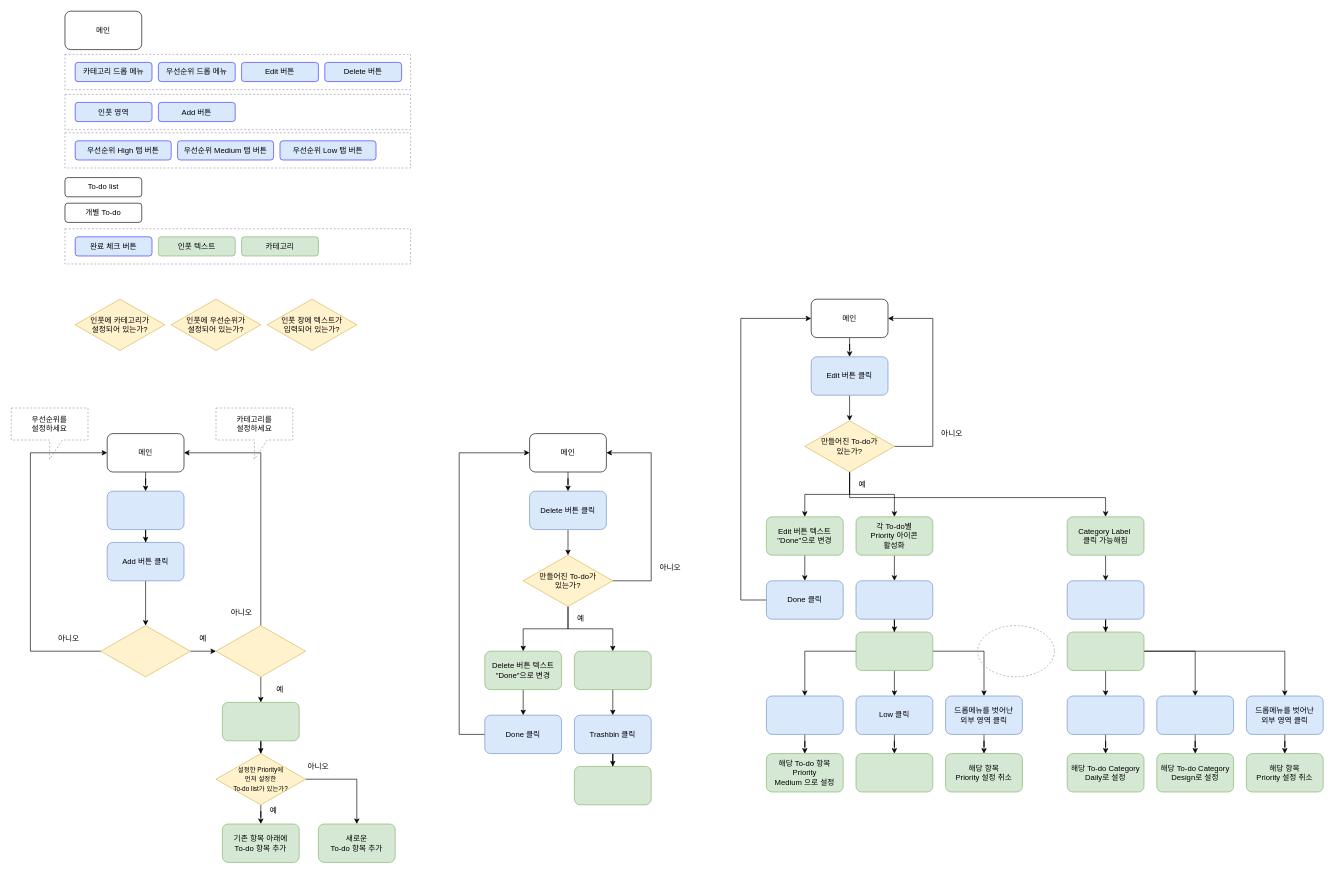
Image size: 1334x874. Some labels were removed from this diagram. Each missing label, with the centre of its shape:
"Category Label 클릭" goes at [1105,599].
"Daily 클릭" goes at [1105,714].
"Design 클릭" goes at [1195,714].
"Medium 클릭" goes at [804,714].
"Priority 아이콘 클릭" goes at [894,599].
"To-do 항목 추가" goes at [260,721].
"각 To-do별 Trashbin 아이콘 활성화" goes at [612,670].
"우선순위를 설정했는가?" goes at [145,651].
"인풋 영역 입력" goes at [145,510].
"카테고리를 설정했는가?" goes at [260,651].
"해당 To-do 항목 Priority Low로 설정" goes at [894,772].
"해당 To-do 항목 To-do list에서 삭제" goes at [612,785].
"해당 To-do 항목의 Priority 설정 드롭 메뉴 팝업" goes at [894,650].
"해당 To-do의 Category 설정 드롭 메뉴 팝업" goes at [1105,650].
"현재 설정된 Priority와 Category는 비활성화 상태로 클릭할 수 없음" goes at [1015,651].
